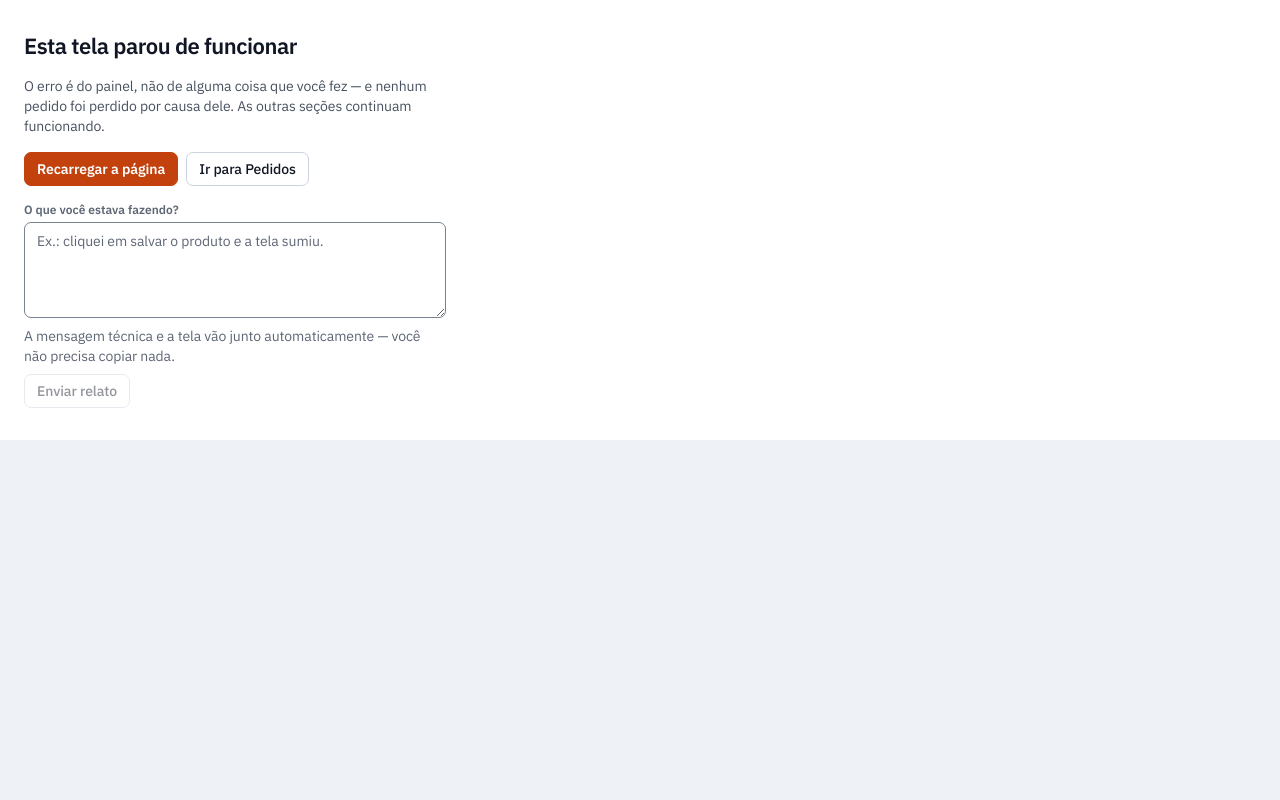
Test: ErroDaTela · o relato › quando o envio falha, mostra o log para copiar e deixa tentar de novo
Step 1. Type "sumiu tudo" into the text box with test id "erro-descricao" → (235, 270), box [24,222,446,318]
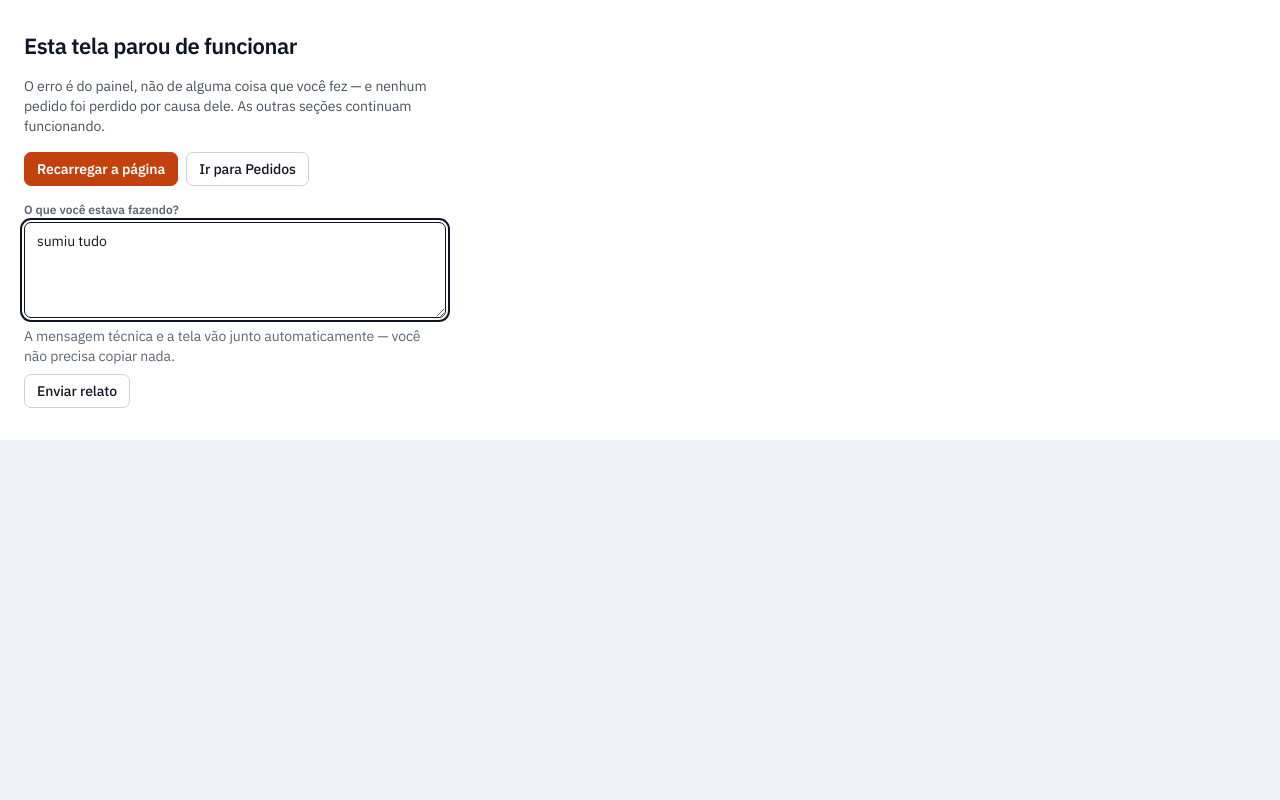
Step 2. Click the button with test id "erro-enviar" → (77, 391), box [24,374,130,408]
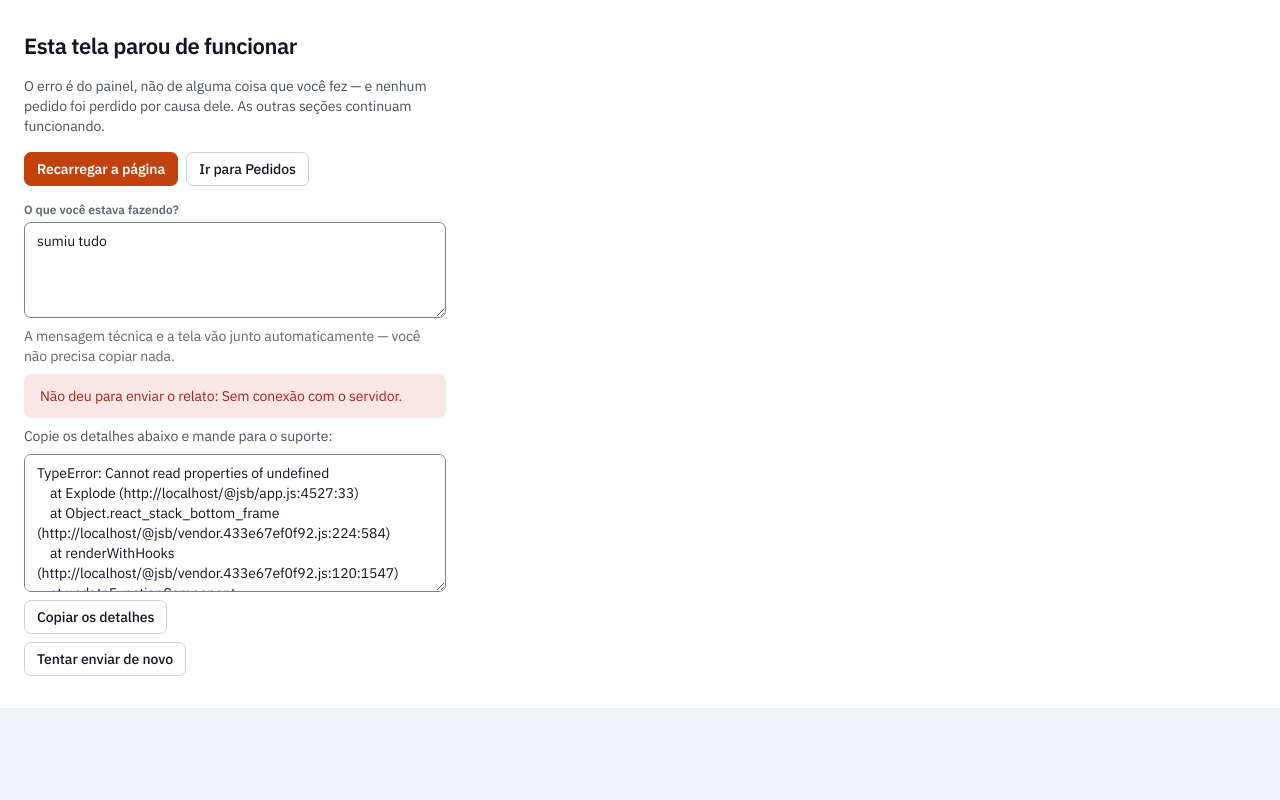
Result: the element with test id "erro-falha-do-envio" shows "Sem conexão com o servidor." at [222,387,402,405]
Result: the button with test id "erro-enviar" reads "Tentar enviar de novo" at [24,642,186,676]
